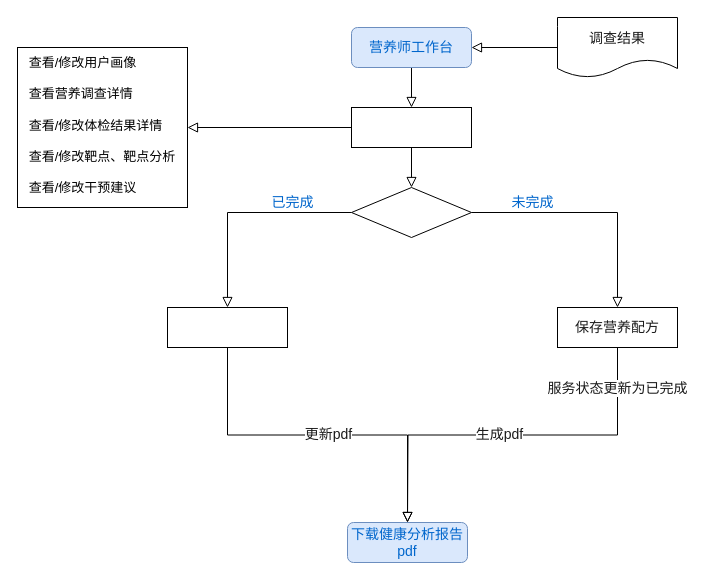
Image size: 704x580. Some labels were removed from this diagram. The shapes that lost their labels are listed below. From the top down, each one's centre as x and y in pixels, then its label:
At (x=411, y=127): "客户详情".
At (x=411, y=212): "服务状态".
At (x=227, y=327): "修改并保存 营养配方".
